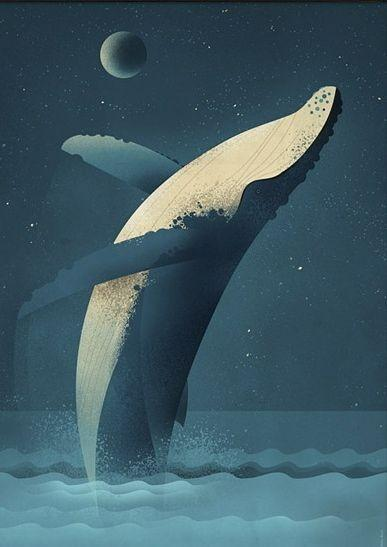fish: (23, 82, 345, 530)
